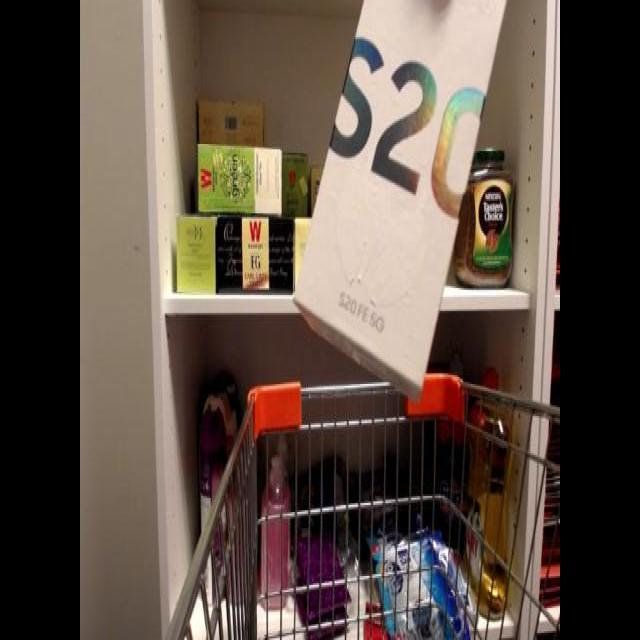Samsung S20: (289, 0, 511, 398)
